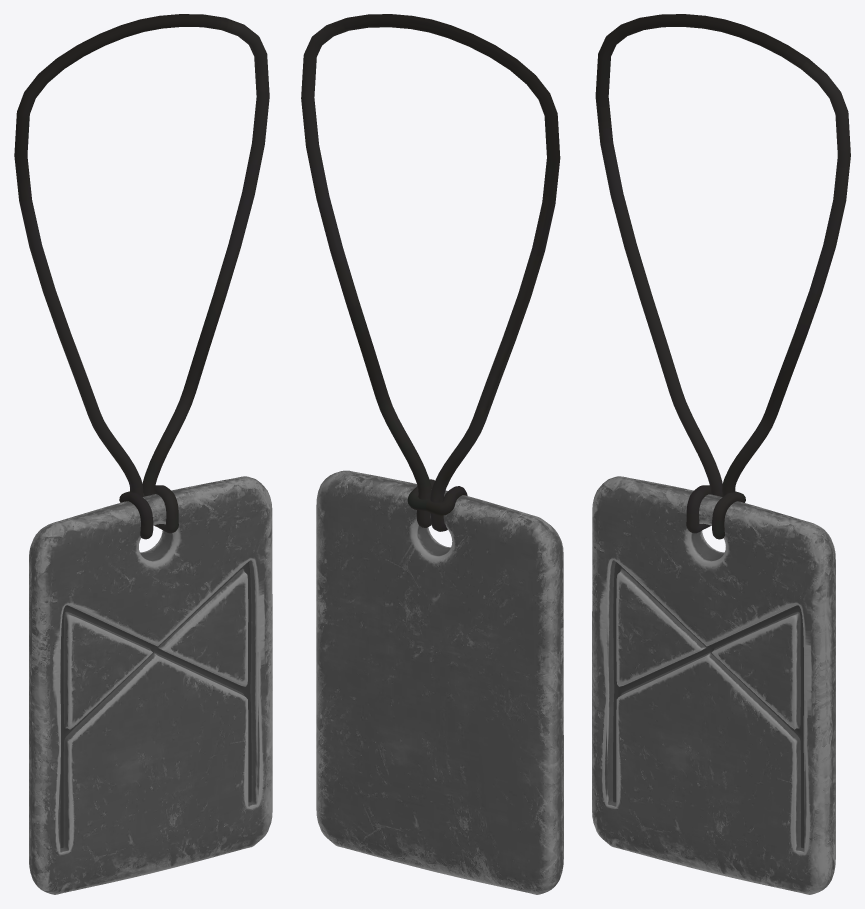
Rendered from rune_pendant.glb.
3 views of the same model, side by side, from view 1: azimuth 30°, elevation 25°; view 2: azimuth 150°, elevation 25°; view 3: azimuth 330°, elevation 25° (orthographic).
Parts seen in each view (by area): view 1: RuneMPendant1_RuneMPendant1_0; view 2: RuneMPendant1_RuneMPendant1_0; view 3: RuneMPendant1_RuneMPendant1_0.
Part boxes in pixels (left/top/right/bottom): RuneMPendant1_RuneMPendant1_0: left=14, top=14, right=272, bottom=894; RuneMPendant1_RuneMPendant1_0: left=301, top=14, right=563, bottom=894; RuneMPendant1_RuneMPendant1_0: left=592, top=14, right=850, bottom=894.
Size of the model in its own units: 41.86 by 133 by 7.49.
1 material, 1 textured.
